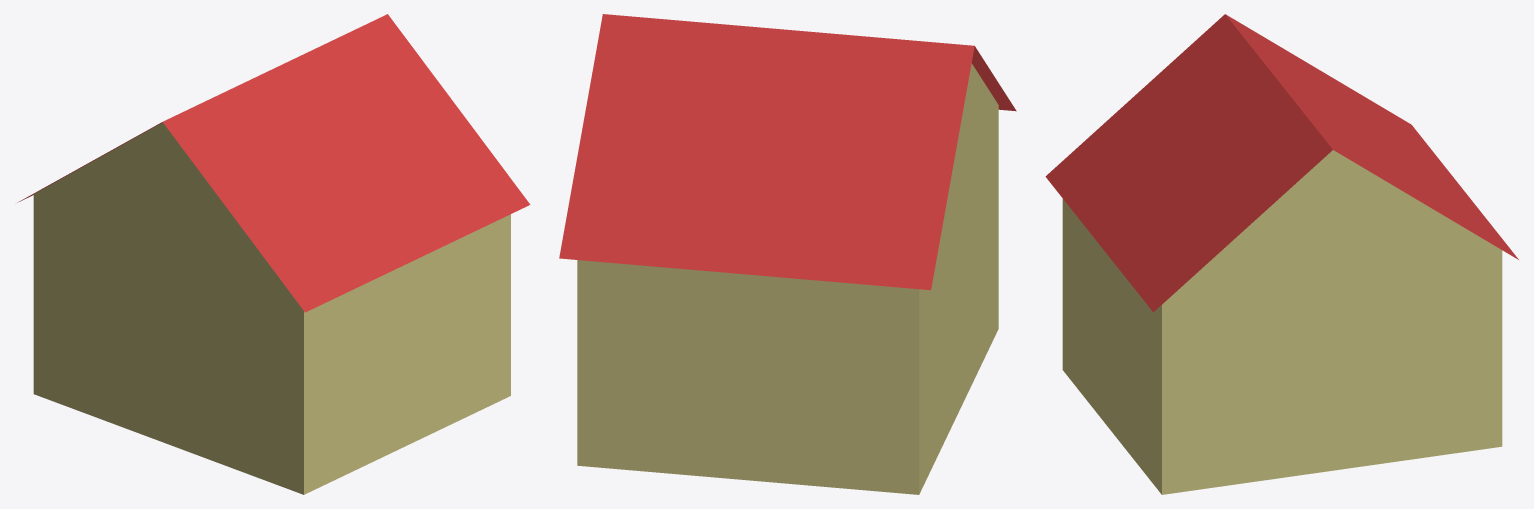
3 renders of one model, left to right at view 1: azimuth 30°, elevation 25°; view 2: azimuth 150°, elevation 25°; view 3: azimuth 270°, elevation 25°, orthographic. The views are drawn at different scales.
Bounding box in the file's own units: 16.28 × 17.37 × 13.21.
